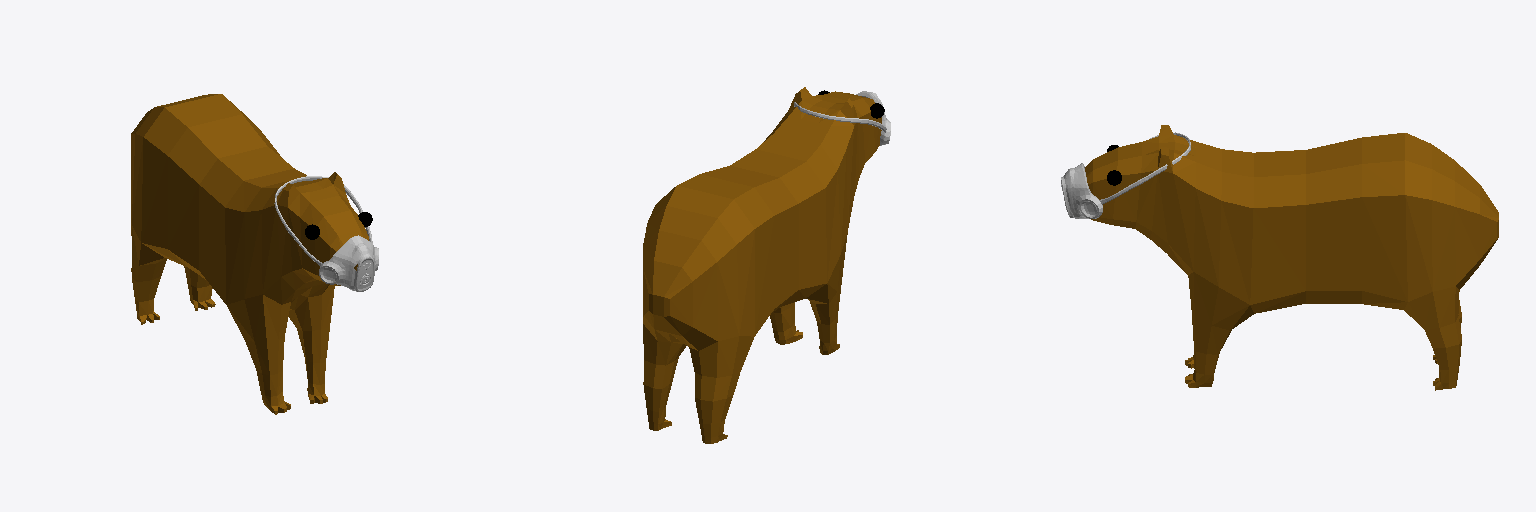
3 views of the same model, side by side, from view 1: azimuth 30°, elevation 25°; view 2: azimuth 150°, elevation 25°; view 3: azimuth 270°, elevation 25° (orthographic).
Parts seen in each view (by area): view 1: Body, Mask_Sample_01; view 2: Body, Mask_Sample_01; view 3: Body, Mask_Sample_01.
Boxes of the visible parts, <box> form: Body: <box>131,94,368,414</box>; Mask_Sample_01: <box>274,176,378,291</box>; Body: <box>643,87,881,443</box>; Mask_Sample_01: <box>794,91,890,145</box>; Body: <box>1085,125,1498,390</box>; Mask_Sample_01: <box>1061,132,1190,218</box>.
Size of the model in its own units: 1.23 by 2.79 by 4.61.
4 materials, 2 textured.